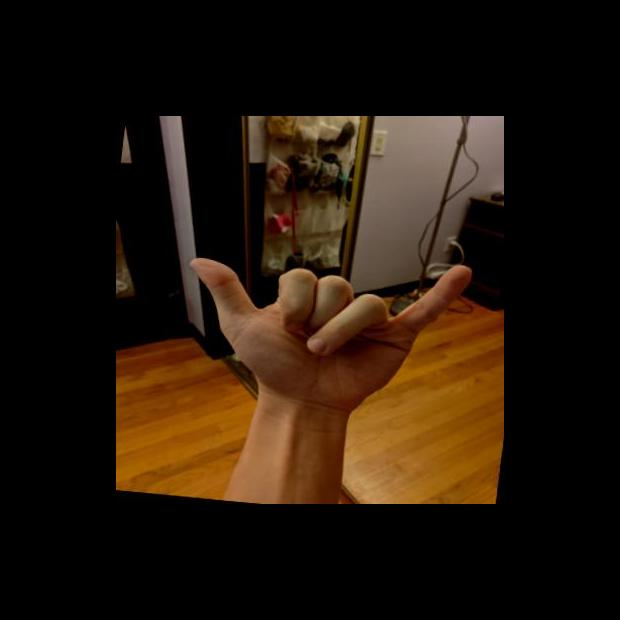X: (171, 236, 478, 418)
